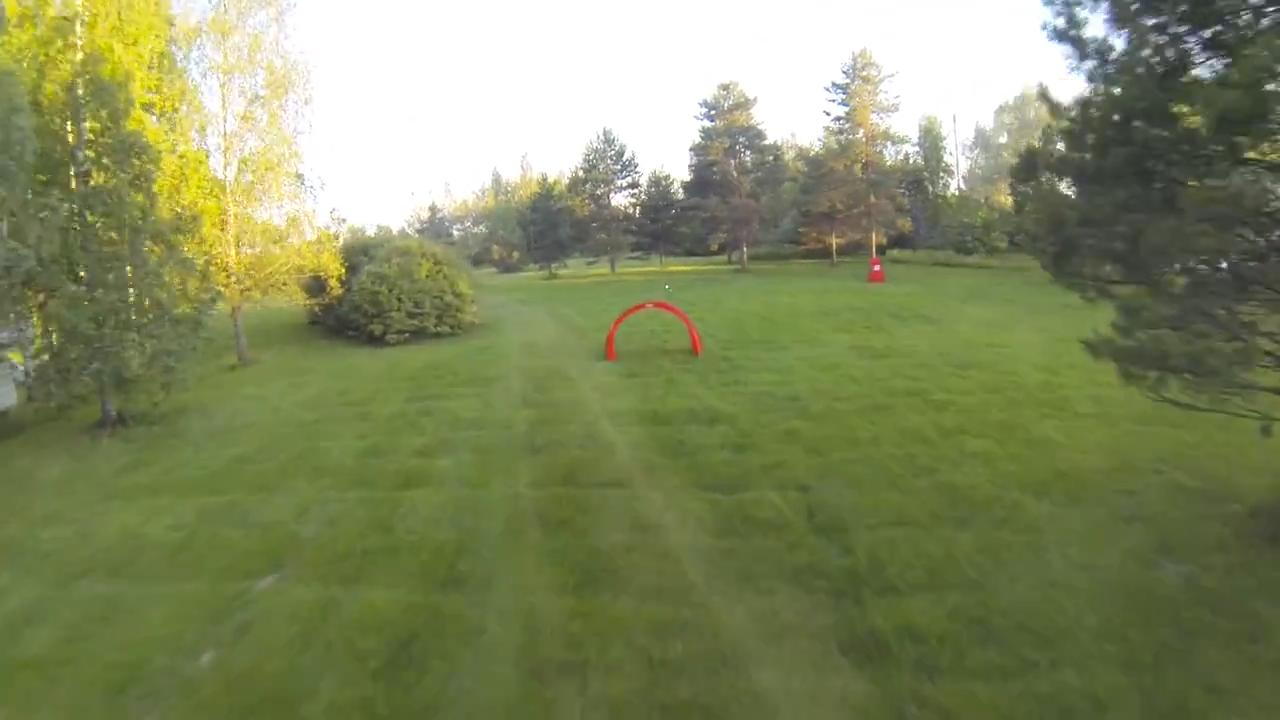gate: (599, 297, 708, 360)
